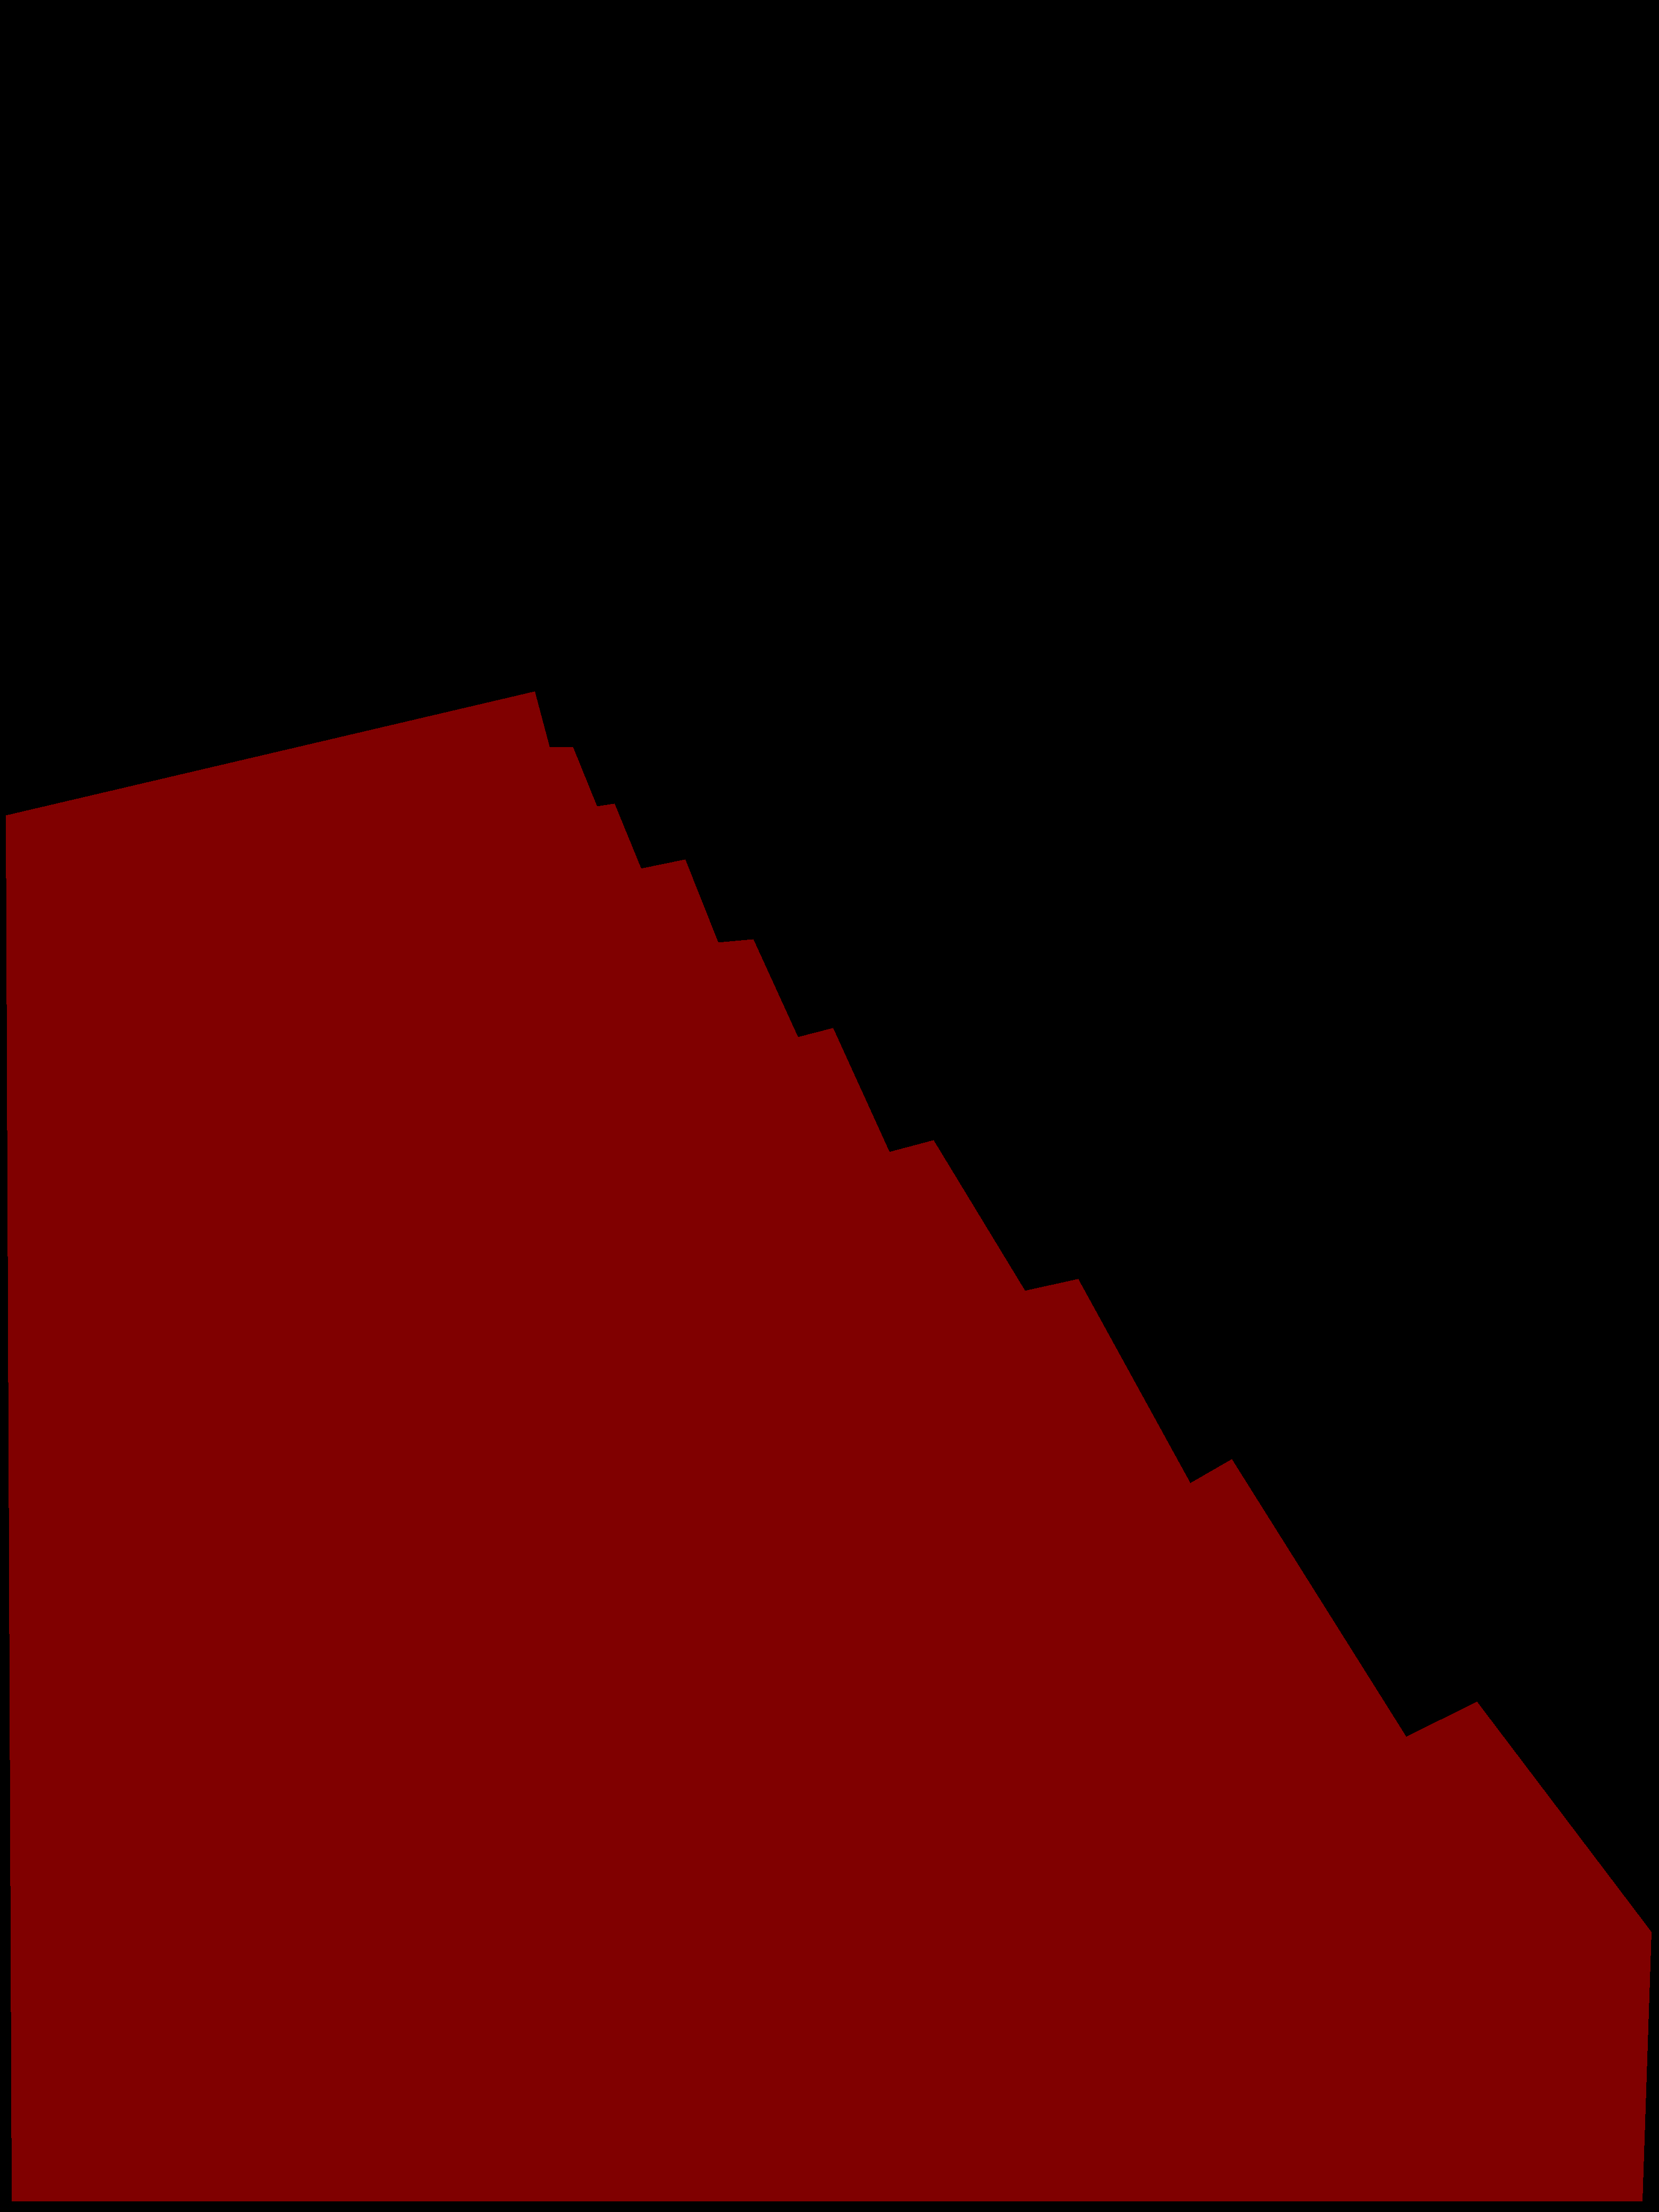stair: (5, 691, 1650, 2202)
